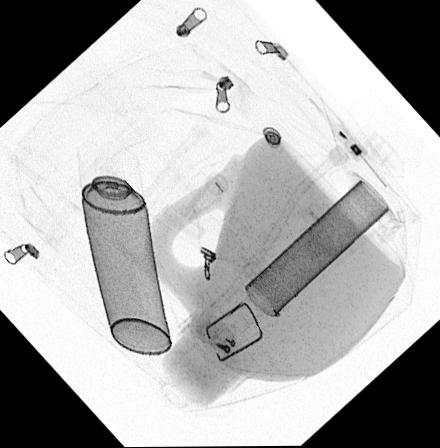Sprayer: (76, 140, 171, 354)
